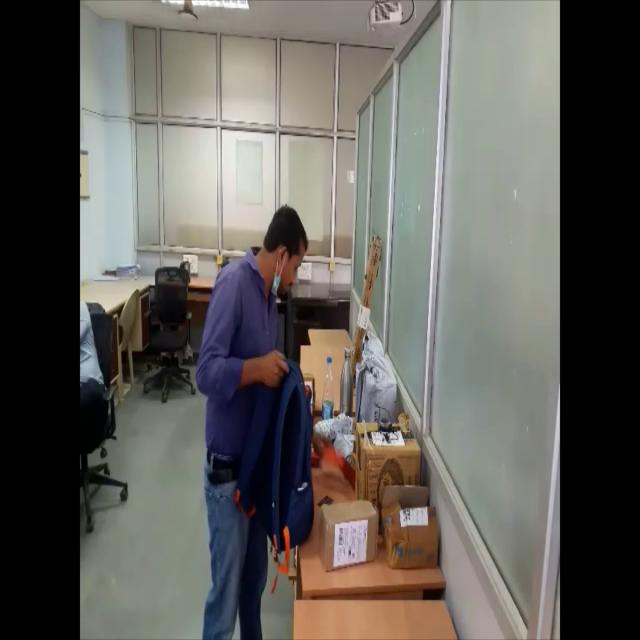shoplifting: (192, 202, 312, 640)
